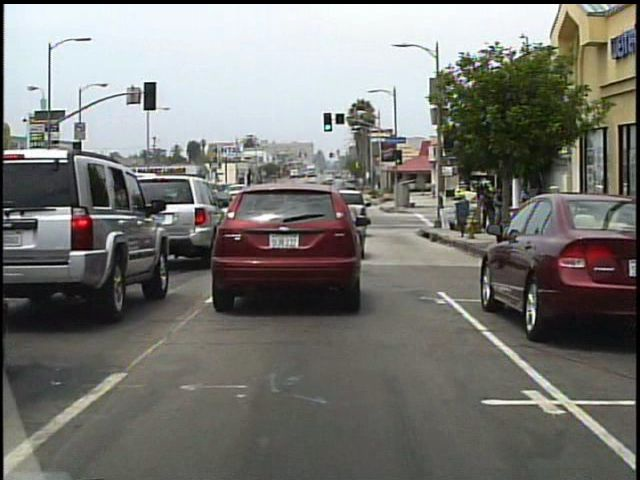person: (516, 185, 533, 235), (481, 187, 497, 227), (495, 189, 503, 228)
